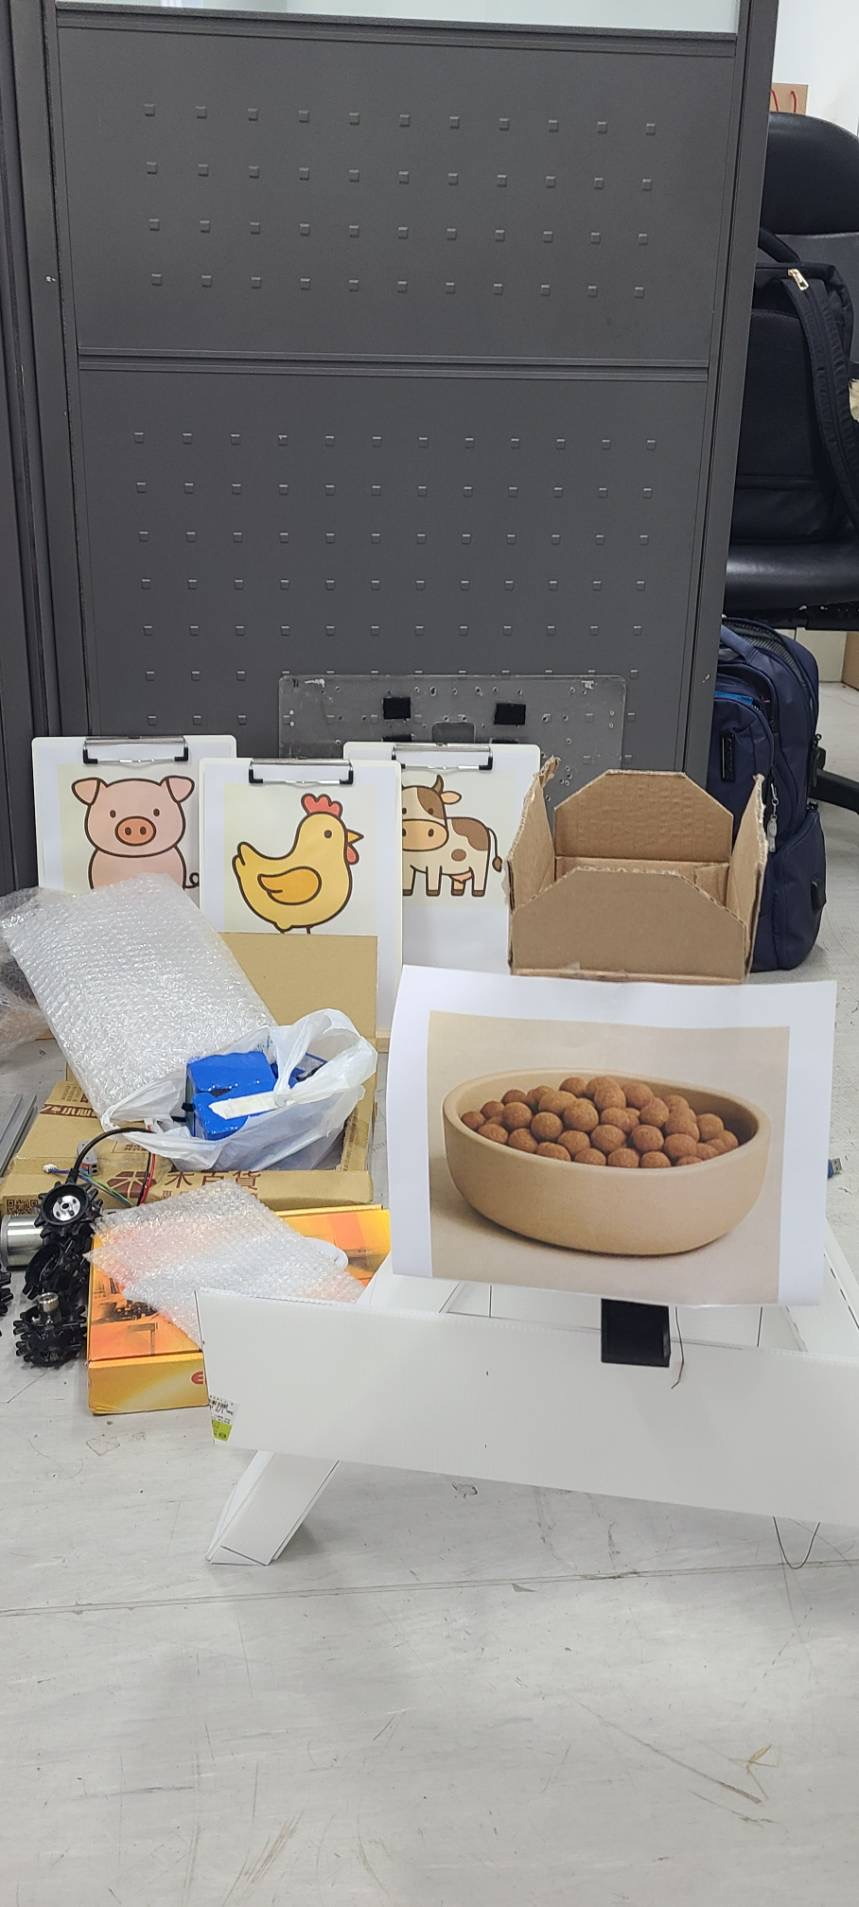cow: (399, 763, 504, 916)
